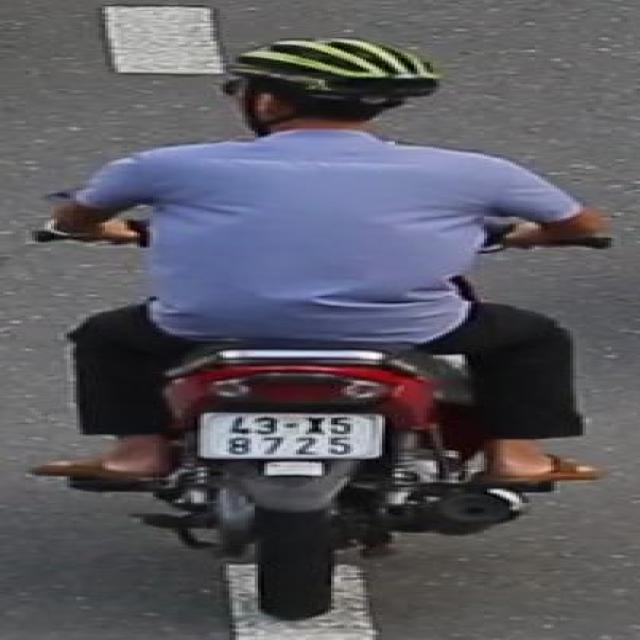LP: (191, 409, 389, 462)
helmet: (202, 31, 441, 158)
